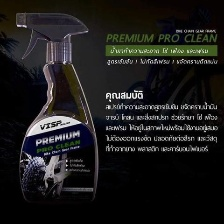cleaning_solution: (10, 7, 101, 220)
